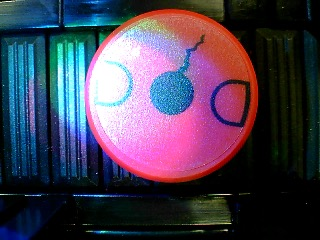CRACK: (84, 8, 259, 183)
